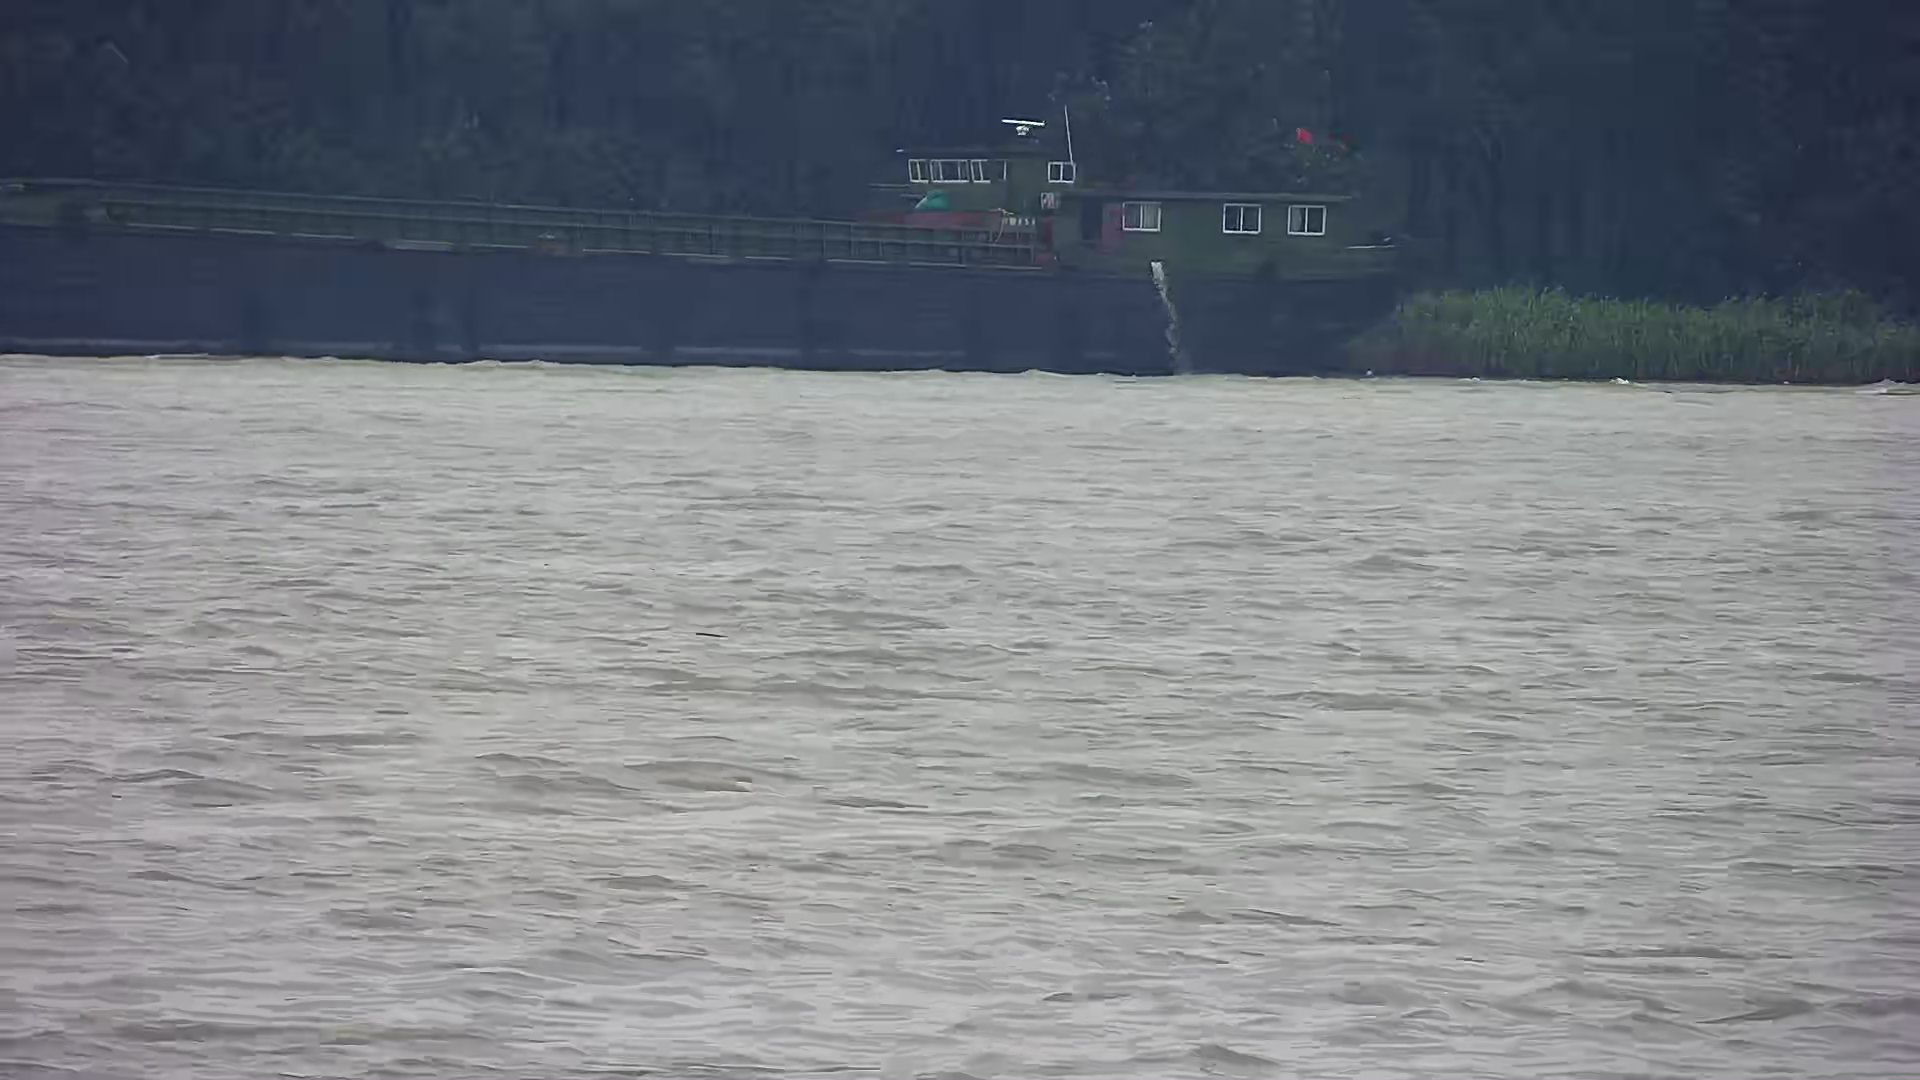ship: (1, 99, 1408, 402)
